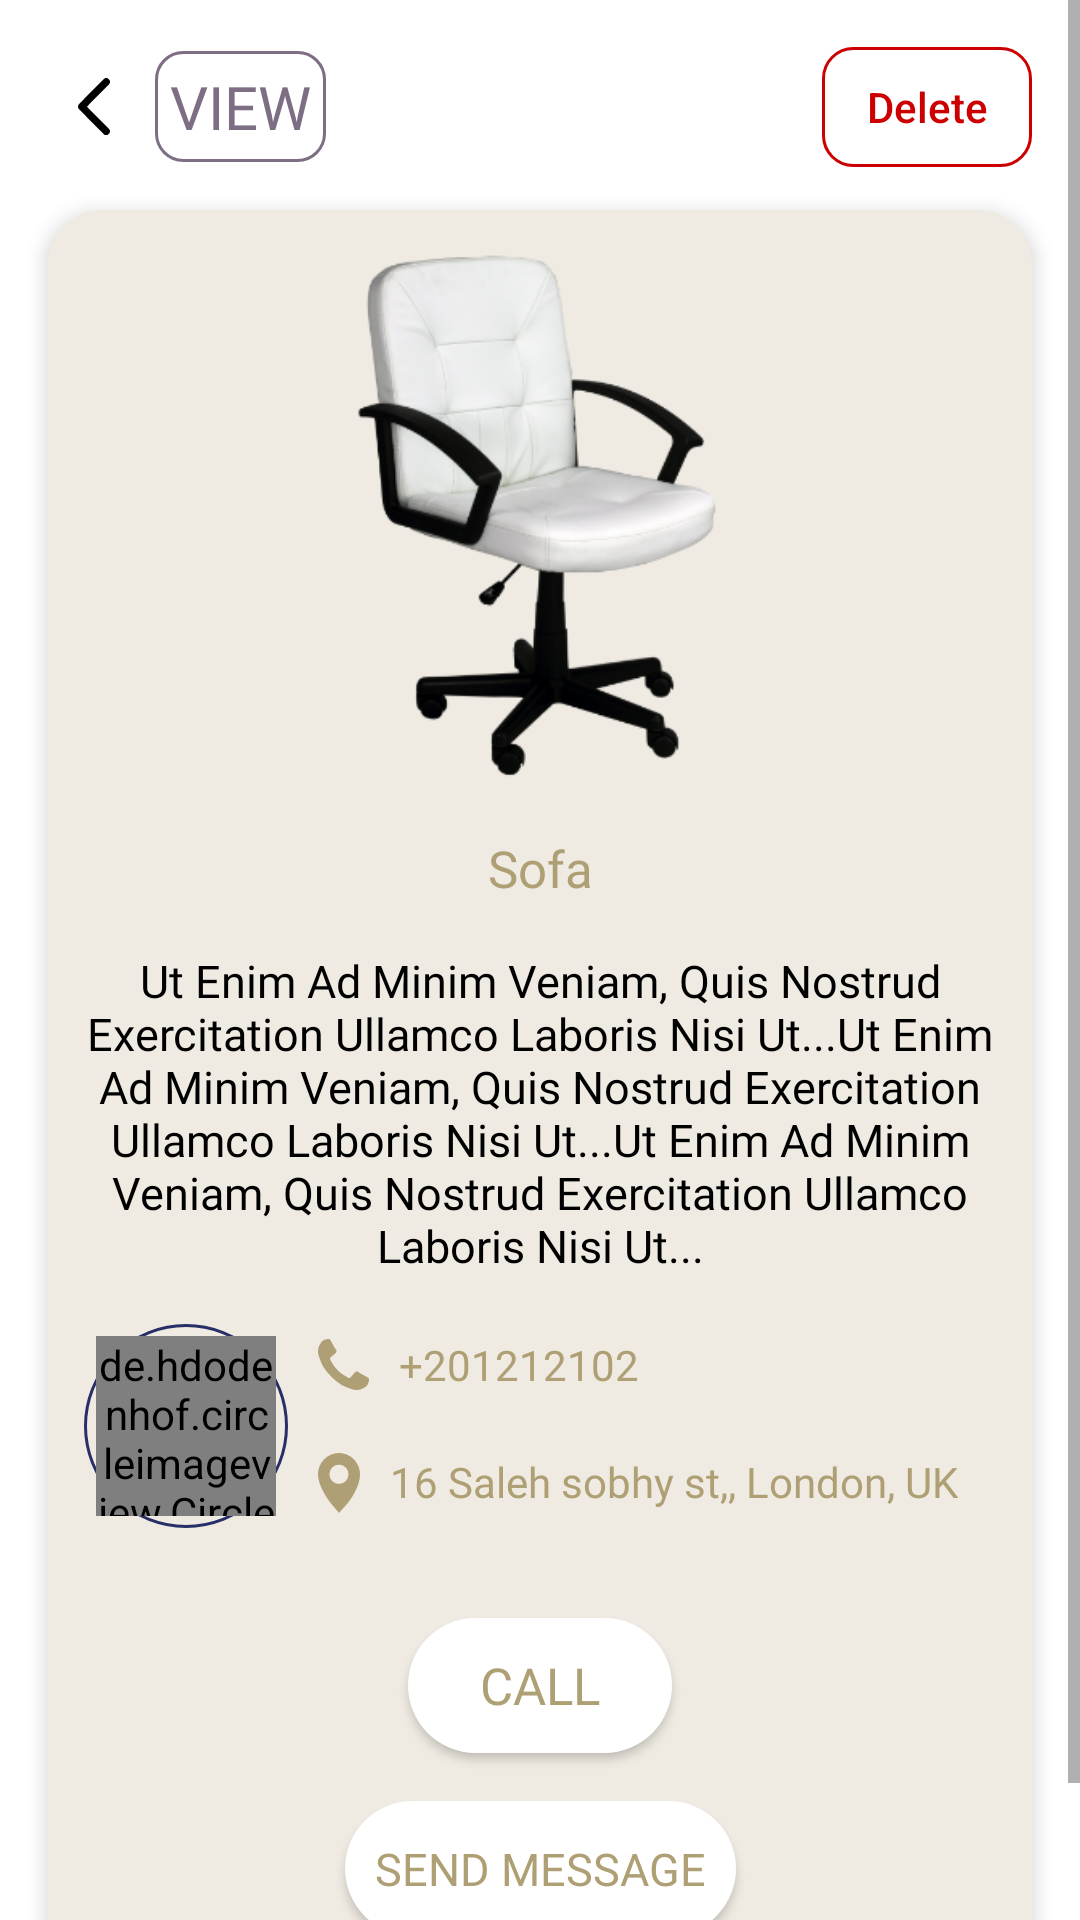

Point at icon controls on the screen. Image size 1080*1920, points as point (x, y).
back: point (94, 106)
location: point (339, 1483)
phone: point (343, 1364)
